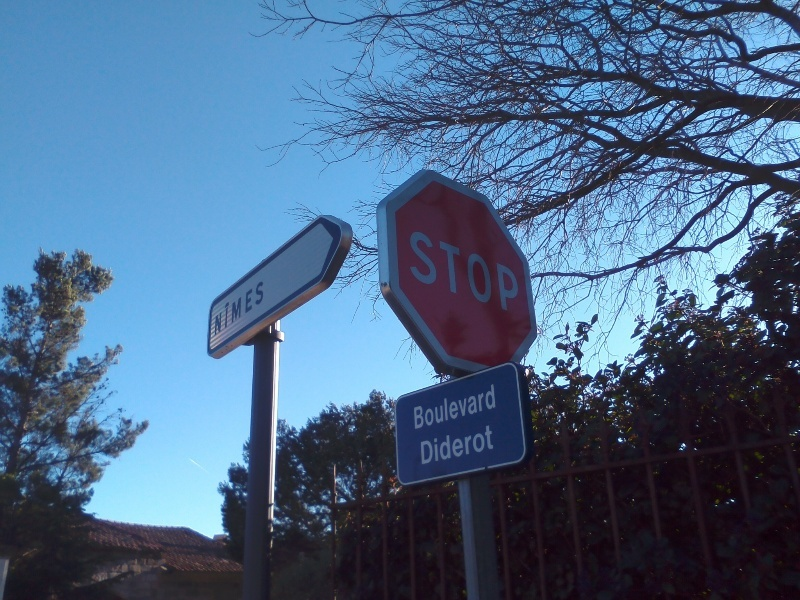text: (417, 227, 432, 315), (433, 227, 448, 315), (449, 227, 464, 315), (465, 227, 480, 315), (481, 227, 496, 315), (497, 227, 512, 315), (225, 279, 240, 336), (241, 279, 256, 336), (481, 384, 497, 430), (408, 227, 416, 315), (513, 227, 521, 315), (417, 384, 432, 430), (433, 384, 448, 430), (449, 384, 464, 430), (465, 384, 480, 430), (433, 425, 448, 465), (449, 425, 464, 465), (465, 425, 480, 465), (481, 425, 494, 465), (215, 279, 224, 336), (257, 279, 266, 336), (421, 425, 432, 465), (413, 384, 416, 430)
